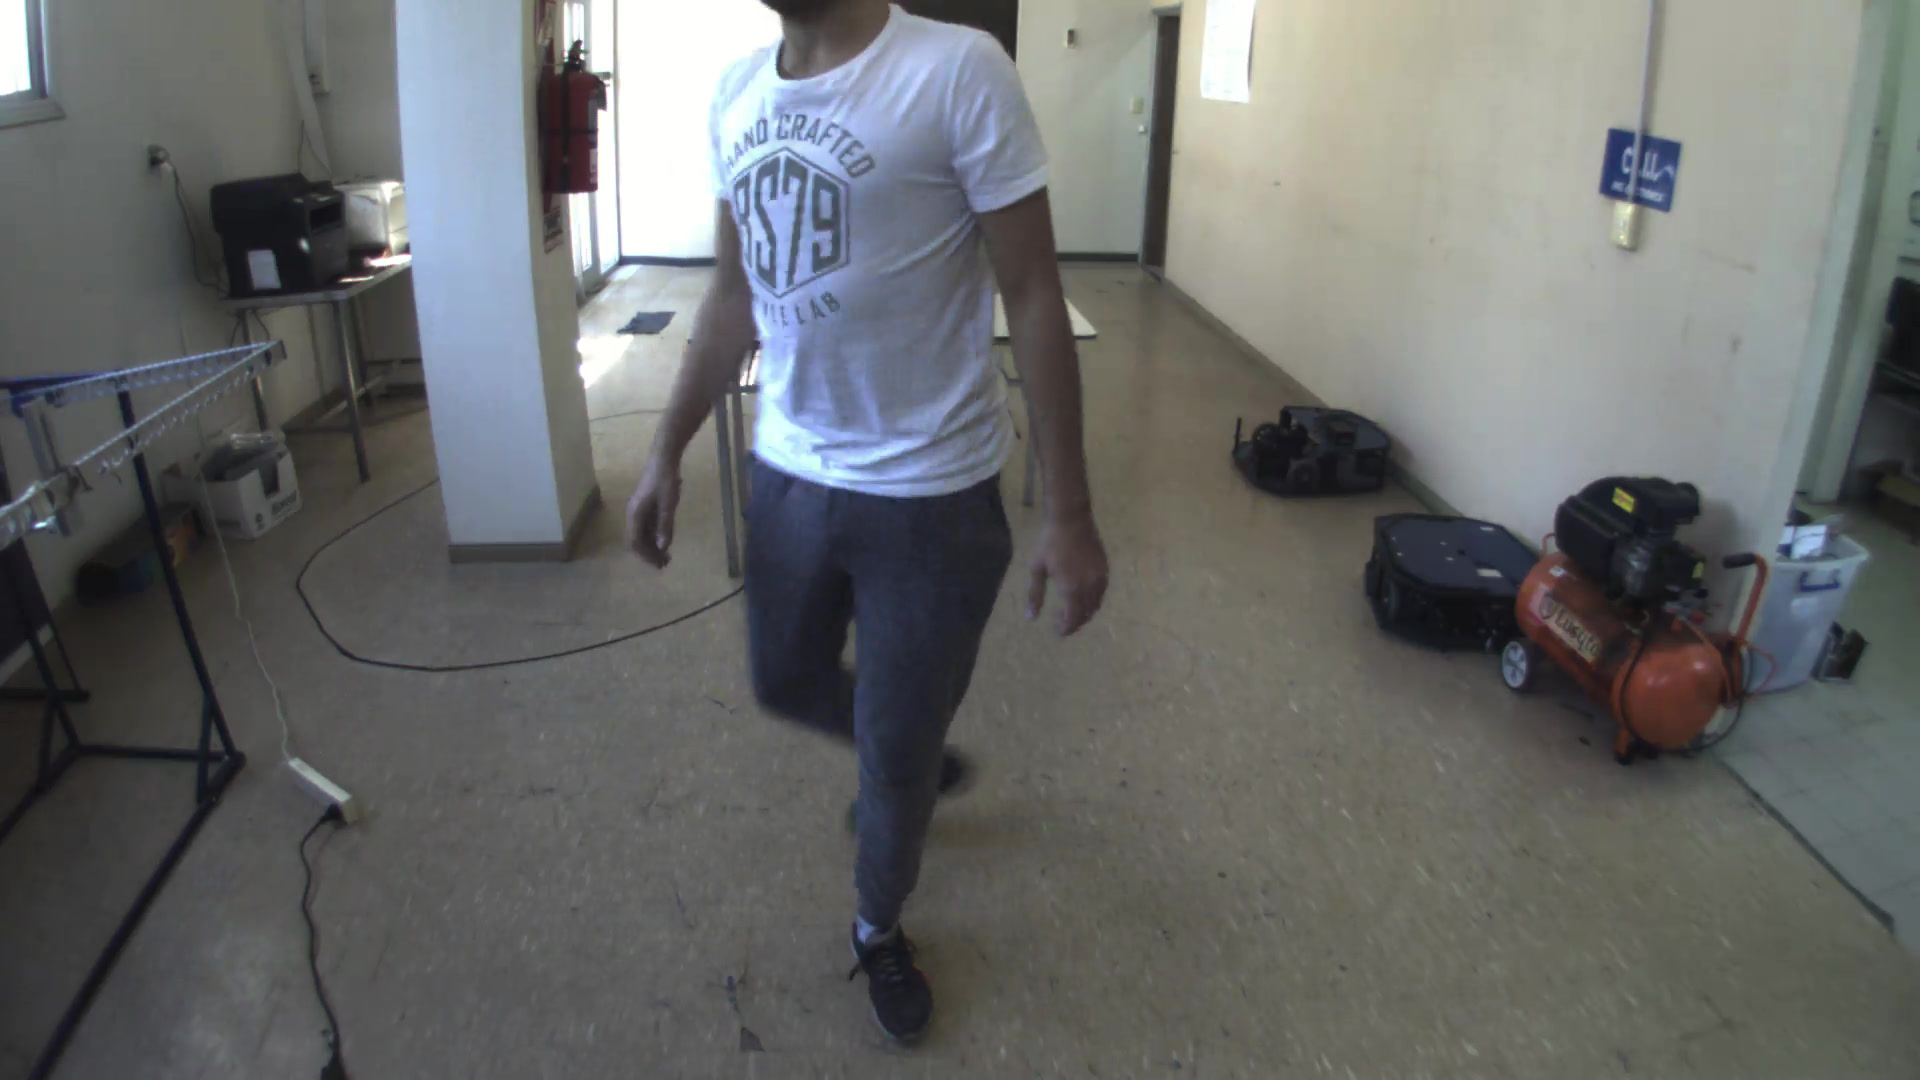hand: (1018, 495, 1120, 640), (615, 452, 684, 574)
